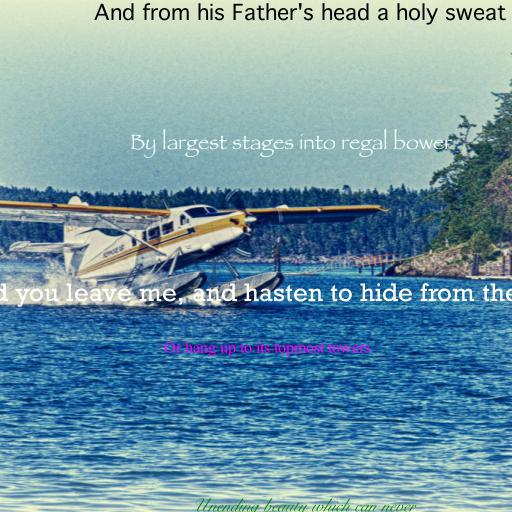Geneva: (94, 3, 506, 25)
Papyrus: (130, 128, 452, 158)
Rockwell: (0, 283, 512, 307)
Snell Roundhand: (192, 498, 416, 512)
Times New Roman: (164, 341, 370, 357)
